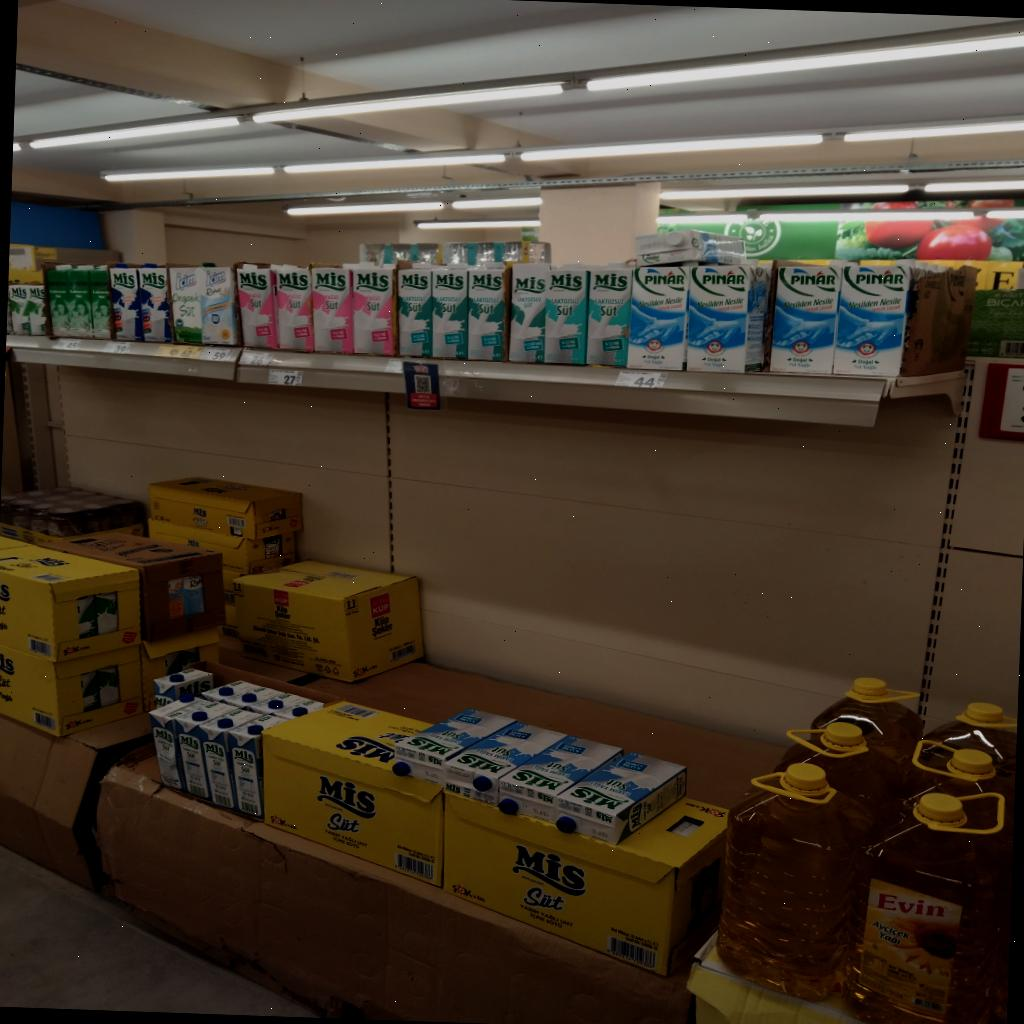product: (552, 752, 686, 843), (443, 722, 564, 803), (501, 736, 621, 815), (394, 708, 514, 782), (833, 262, 912, 374), (686, 264, 763, 372), (769, 263, 840, 373), (625, 265, 689, 370), (171, 702, 229, 799), (586, 267, 632, 366), (543, 267, 588, 364), (508, 263, 550, 362), (351, 263, 396, 355), (192, 718, 235, 808), (467, 266, 508, 360), (309, 264, 352, 353), (271, 264, 314, 351), (234, 263, 278, 348), (227, 722, 263, 818), (431, 266, 468, 359), (397, 265, 433, 356), (149, 700, 185, 791), (198, 268, 240, 345), (167, 267, 208, 343), (138, 264, 171, 342), (108, 265, 142, 339), (7, 283, 46, 335), (66, 267, 92, 336), (89, 266, 112, 338), (45, 266, 68, 335), (7, 283, 31, 334)
